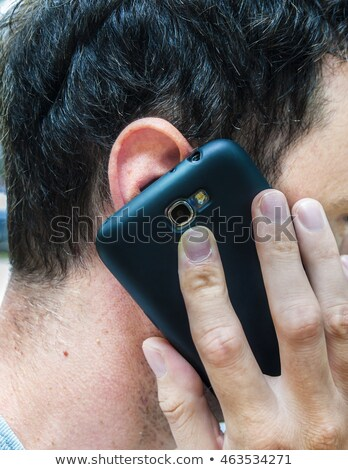phone: (98, 162, 299, 367)
